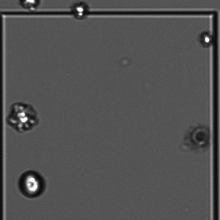Dead Cell: (187, 119, 208, 152)
Living Cell: (69, 1, 95, 33), (18, 170, 46, 198), (11, 100, 33, 133), (198, 26, 212, 50)
